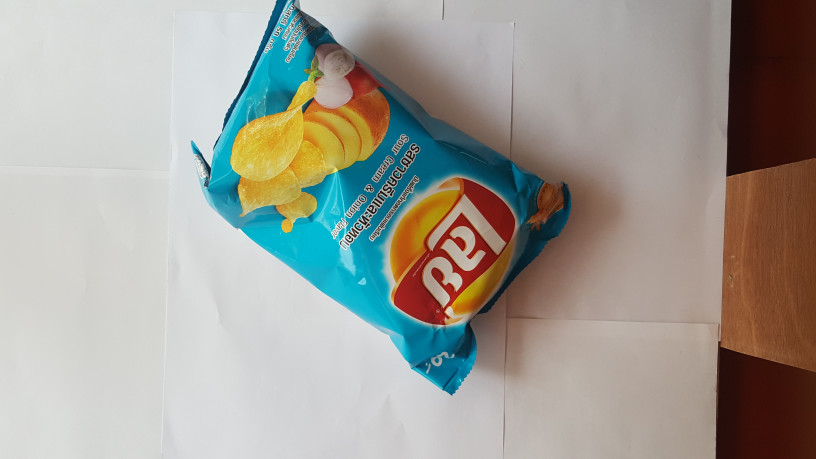lays-onion: (185, 1, 582, 393)
